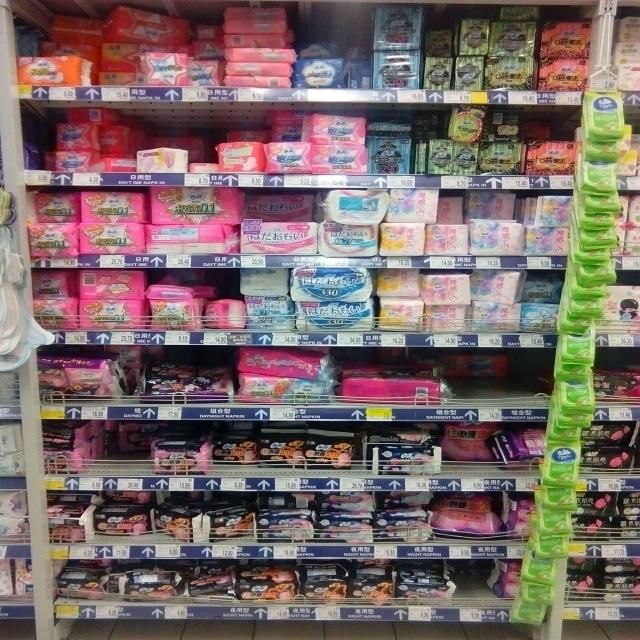void: (183, 116, 222, 188), (512, 353, 544, 425), (90, 420, 118, 496), (120, 419, 147, 490), (458, 560, 479, 625)
